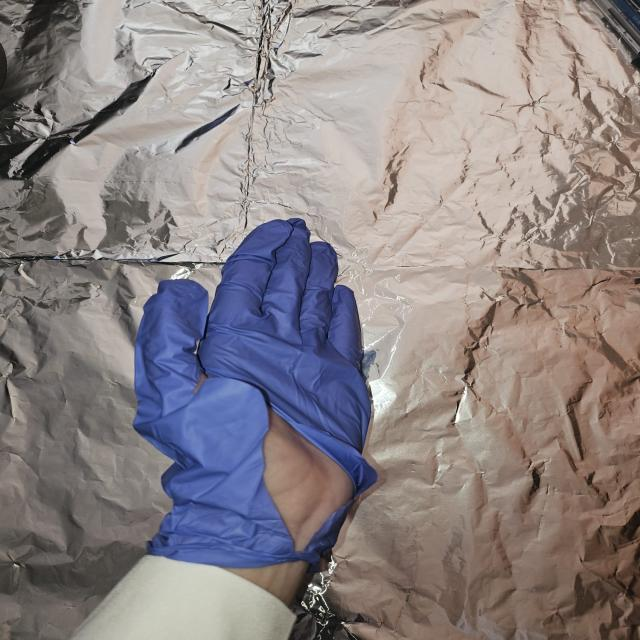gloves_damaged: (134, 216, 380, 557)
